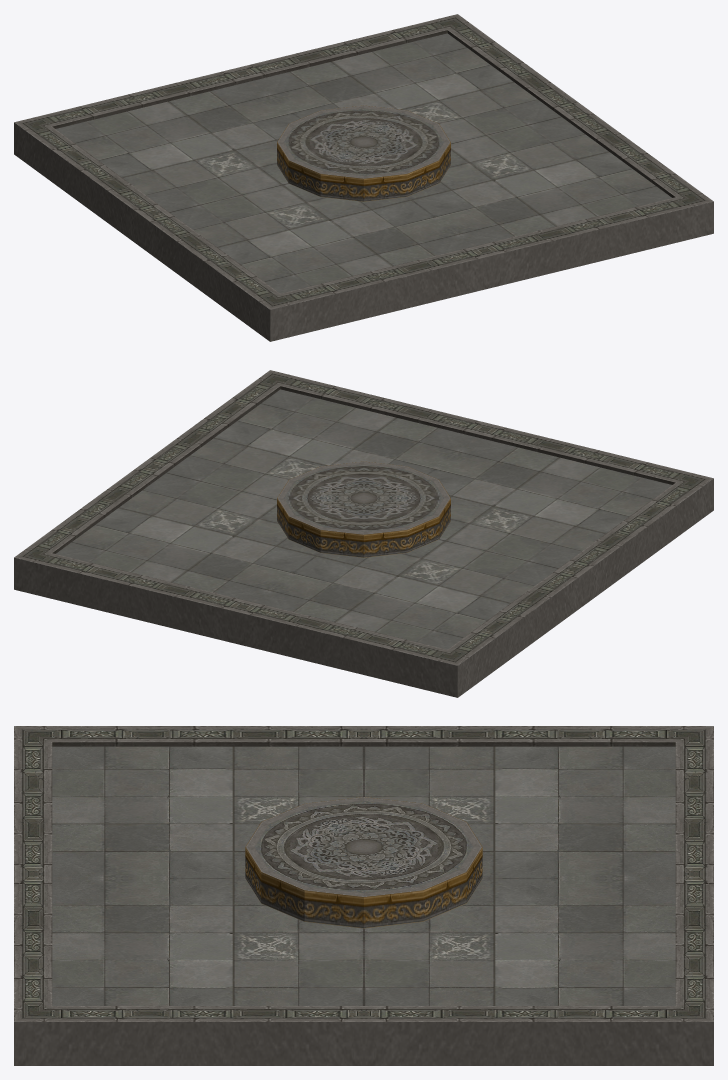
The model's file is s7_unioncity_jianzhu_taizi_01.FBX.
The picture shows the model from 3 angles, top to bottom: view 1: azimuth 30°, elevation 25°; view 2: azimuth 150°, elevation 25°; view 3: azimuth 270°, elevation 25°; orthographic projection. The views are drawn at different scales.
Parts seen in each view (by area): view 1: Object03, Object09; view 2: Object03, Object09; view 3: Object03, Object09.
Boxes of the visible parts, x1,y1,x2,y2 form: Object03: [56, 33, 671, 293]; Object09: [14, 14, 713, 341]; Object03: [56, 389, 671, 649]; Object09: [14, 370, 713, 697]; Object03: [52, 746, 675, 1005]; Object09: [14, 726, 713, 1065].
Size of the model in its own units: 21.17 by 2.36 by 21.17.
